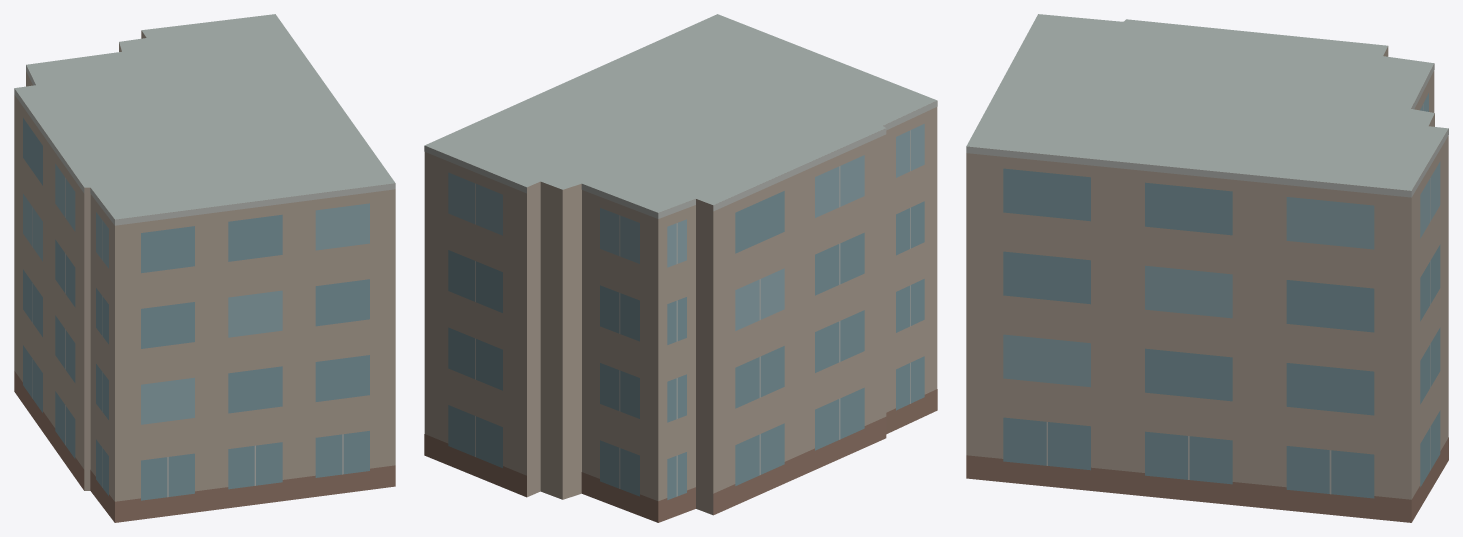
The model's file is survey-upis-32651625.glb.
The picture shows the model from 3 angles, left to right: view 1: azimuth 30°, elevation 25°; view 2: azimuth 150°, elevation 25°; view 3: azimuth 270°, elevation 25°; orthographic projection. The views are drawn at different scales.
Parts seen in each view (by area): view 1: survey-upis-32651625.tmp; view 2: survey-upis-32651625.tmp; view 3: survey-upis-32651625.tmp.
Part boxes in pixels (left/top/right/bottom): survey-upis-32651625.tmp: left=14, top=14, right=395, bottom=522; survey-upis-32651625.tmp: left=424, top=14, right=937, bottom=522; survey-upis-32651625.tmp: left=966, top=14, right=1448, bottom=522.
Size of the model in its own units: 13.95 by 12.2 by 16.08.
